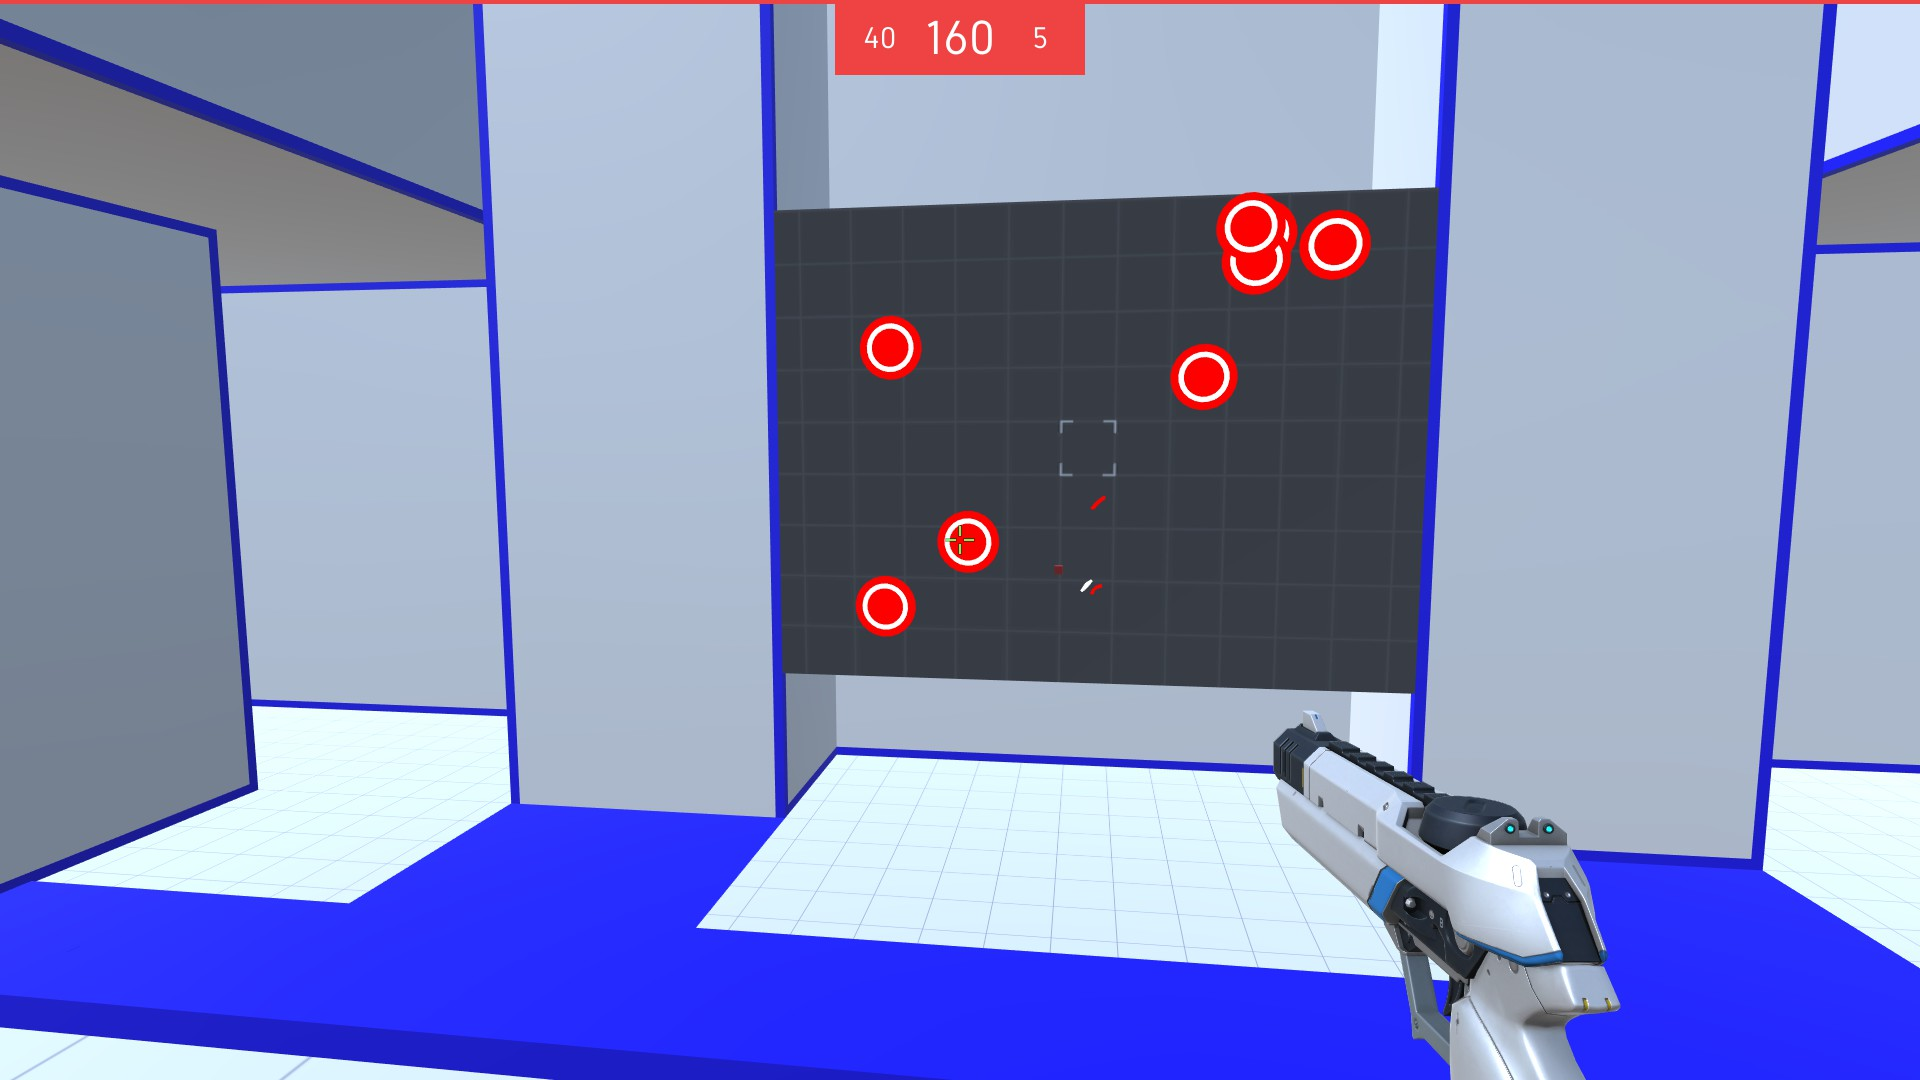target: (1166, 342, 1240, 414), (1302, 208, 1371, 282), (1215, 193, 1286, 258), (860, 314, 924, 382), (936, 506, 998, 578), (855, 574, 920, 634), (1218, 243, 1291, 297)
